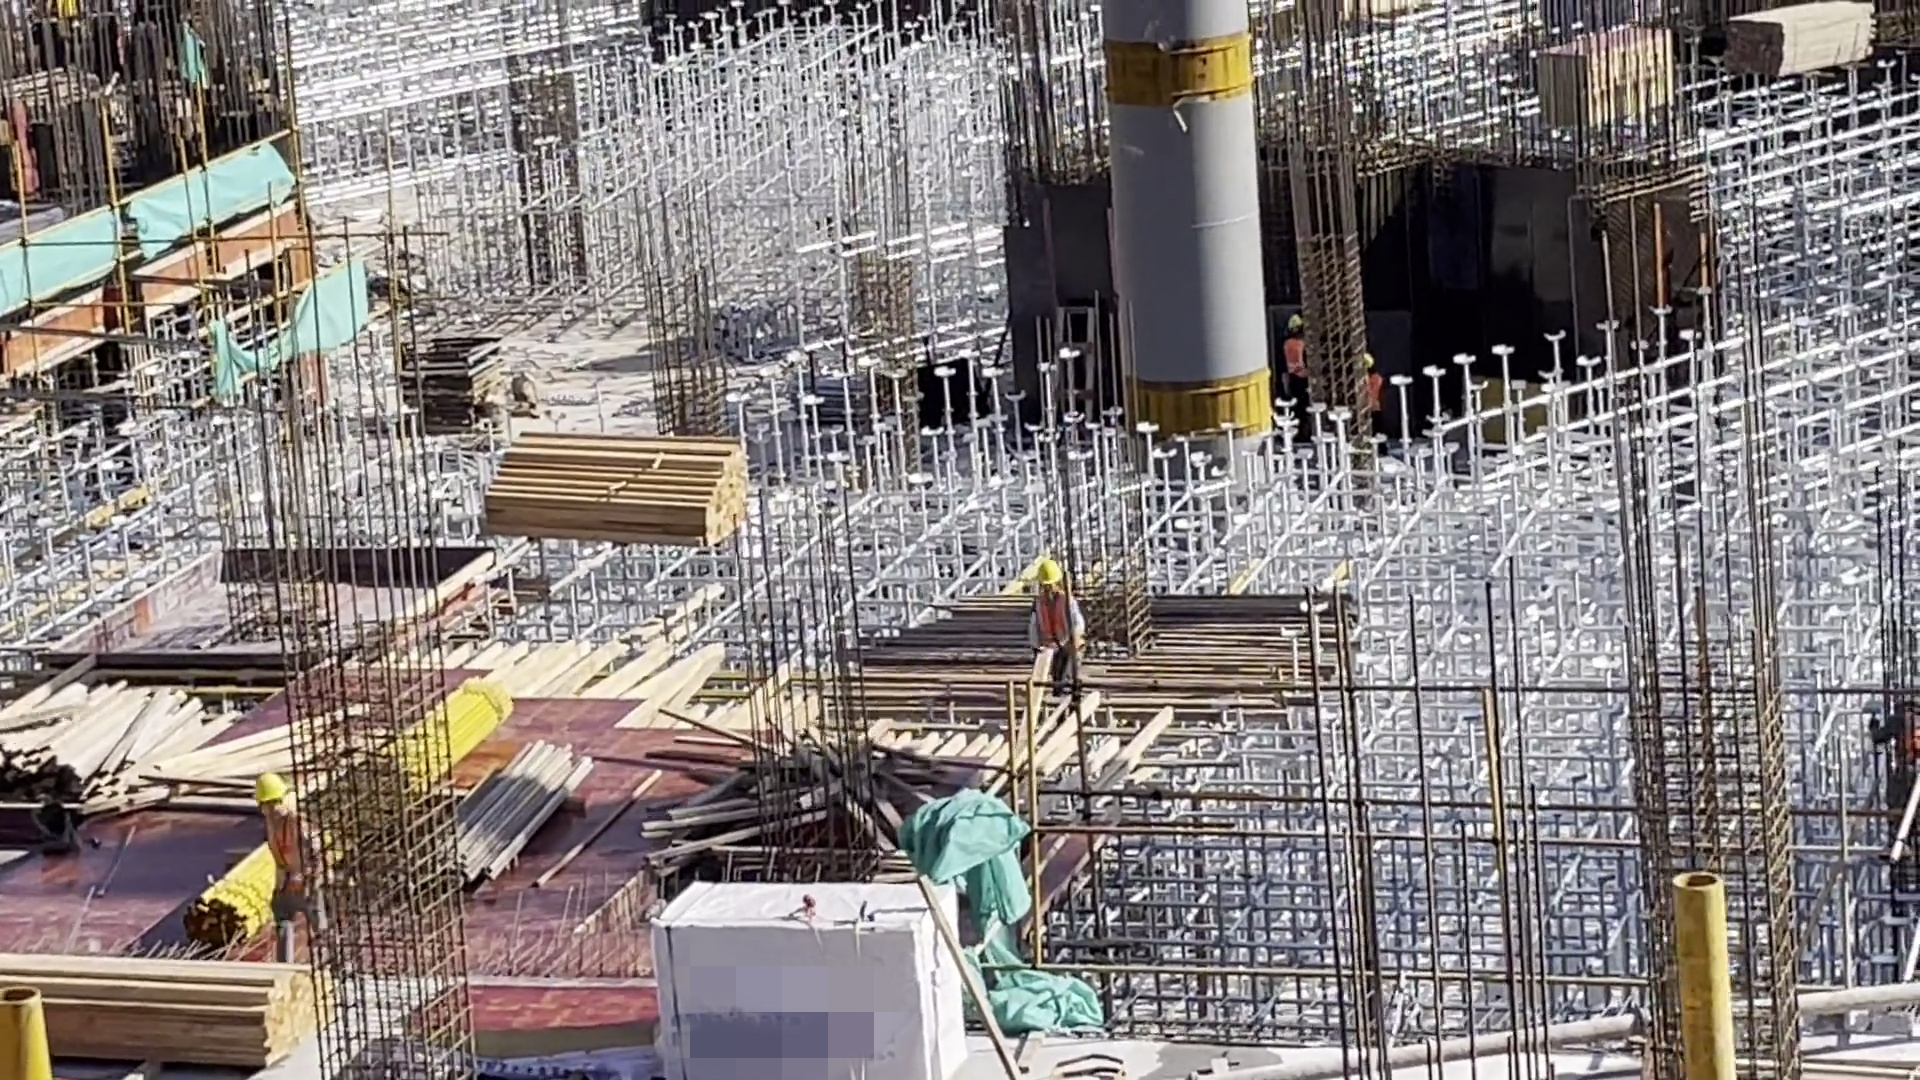board: (395, 313, 529, 438)
helmet: (1035, 560, 1070, 597), (256, 773, 289, 808), (1281, 314, 1310, 336), (1354, 357, 1375, 372)
person: (256, 772, 348, 981), (1025, 548, 1091, 706), (1351, 355, 1394, 443), (1283, 313, 1320, 409)
vest: (258, 810, 338, 917), (1029, 592, 1089, 665), (1282, 337, 1316, 386), (1357, 373, 1383, 421)
wood: (1, 946, 333, 1072), (491, 424, 779, 546), (1, 677, 223, 801), (1734, 1, 1878, 81)
